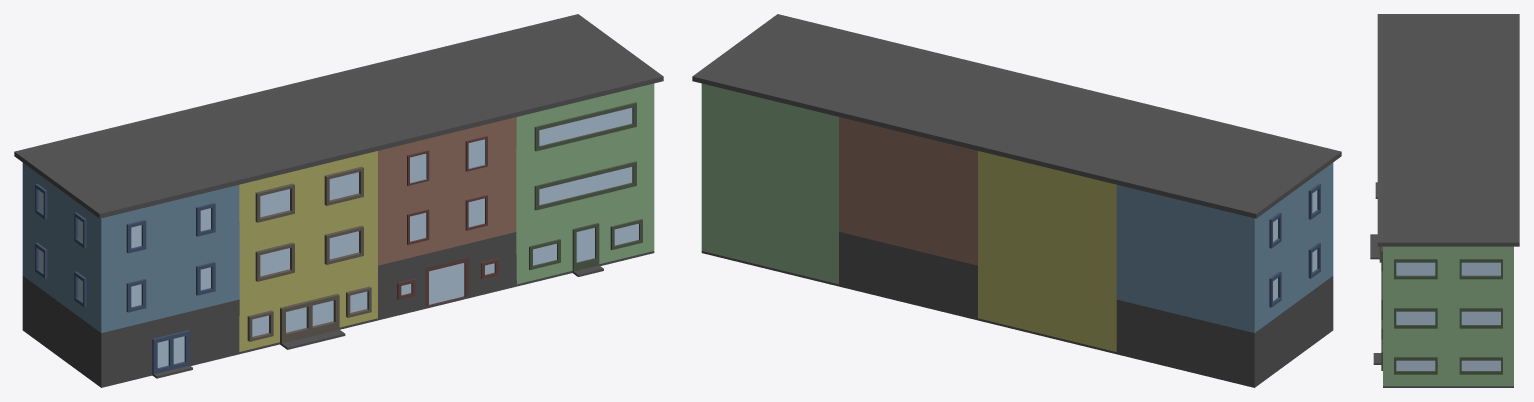
File: buildingrow.fbx
3 renders of one model, left to right at view 1: azimuth 30°, elevation 25°; view 2: azimuth 150°, elevation 25°; view 3: azimuth 270°, elevation 25°, orthographic. The views are drawn at different scales.
Parts seen in each view (by area): view 1: Cube.001; view 2: Cube.001; view 3: Cube.001.
Boxes of the visible parts, x1,y1,x2,y2 form: Cube.001: (14, 14, 663, 387); Cube.001: (692, 14, 1341, 387); Cube.001: (1370, 14, 1519, 387).
Bounding box in the file's own units: 81.89 × 22.55 × 24.63.
